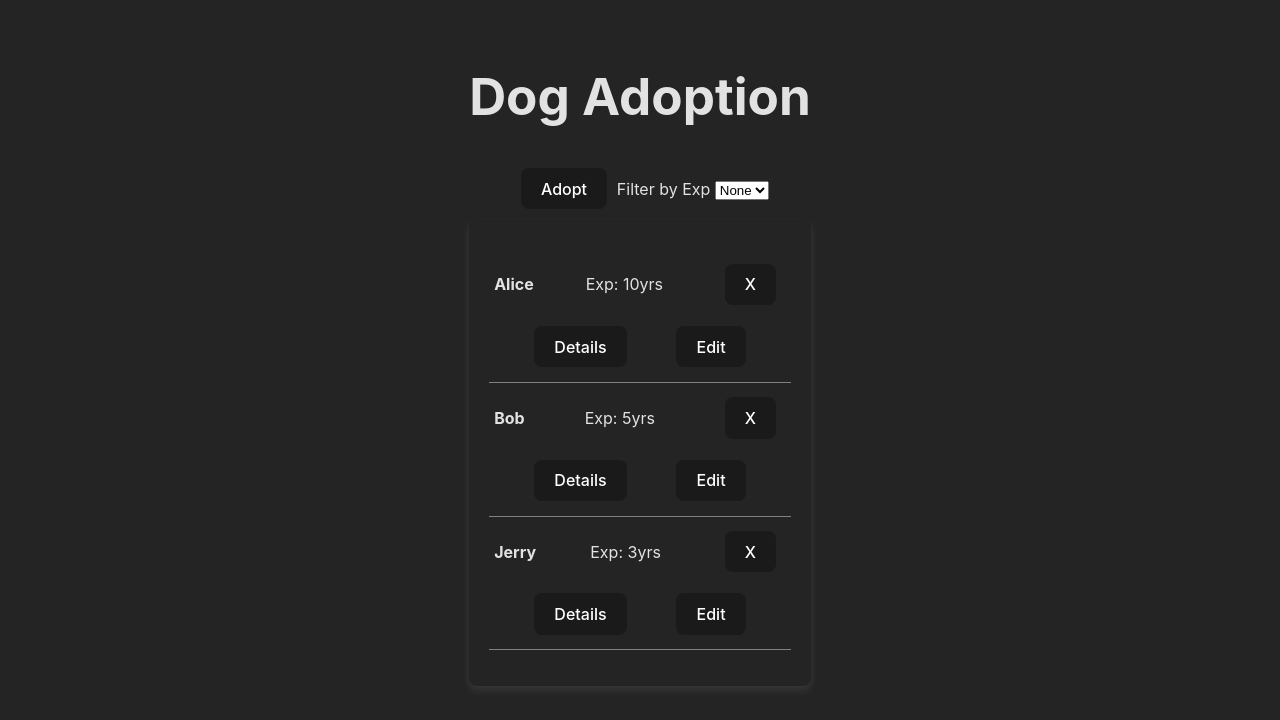
Test: OwnerList › view owner details
This screenshot has width=1280, height=720.
What coordinates should you click on to do the following:
click the button "Details" below "Alice"
I would click on:
 (581, 347)
Its box is [534, 326, 627, 367].
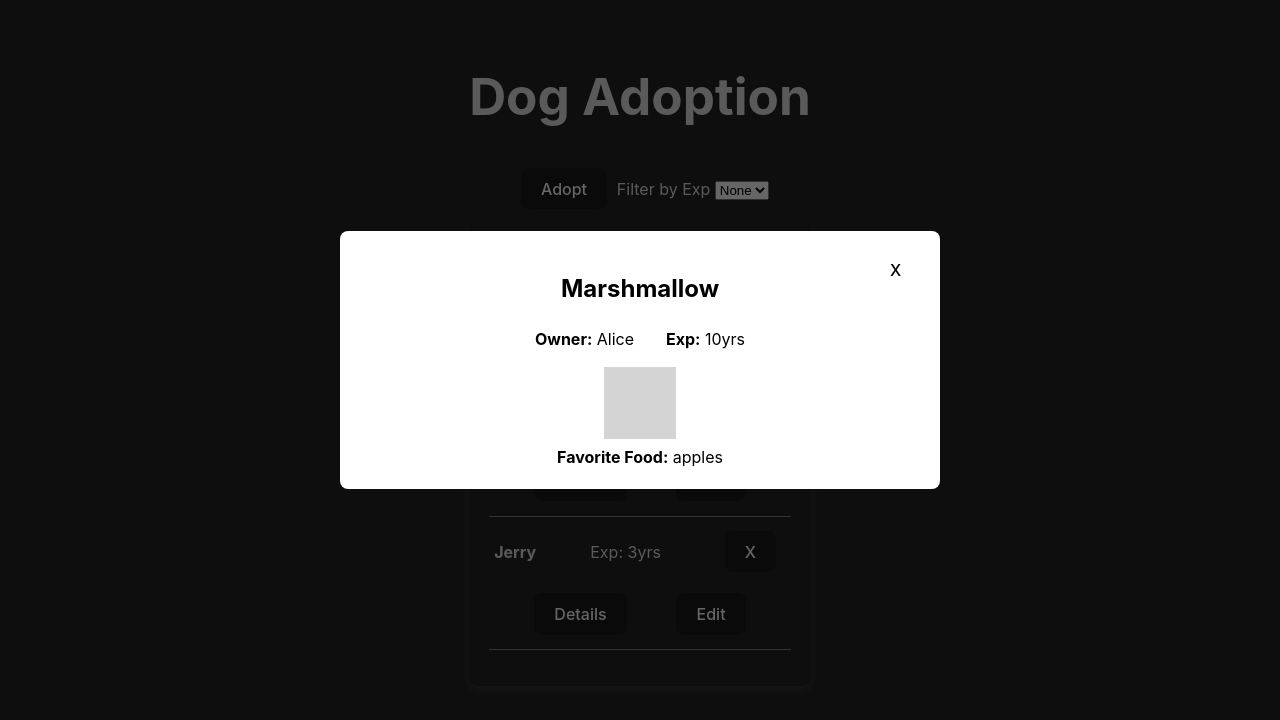
Expected: the heading "Marshmallow" is shown, [561, 274, 719, 303]
Expected: the text "Favorite Food" is shown, [557, 447, 668, 467]
